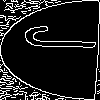J: (24, 25, 100, 51)
